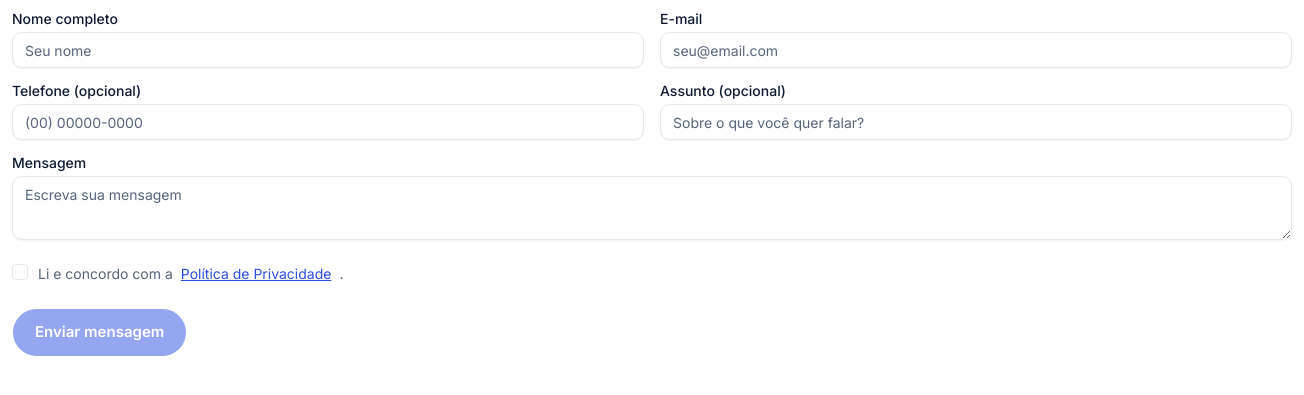
Test case: ContactForm › reports invalid values as the user types
The image size is (1304, 395).
In the field labelled "E-mail": (976, 50) [660, 32, 1292, 68], type "não-é-email"
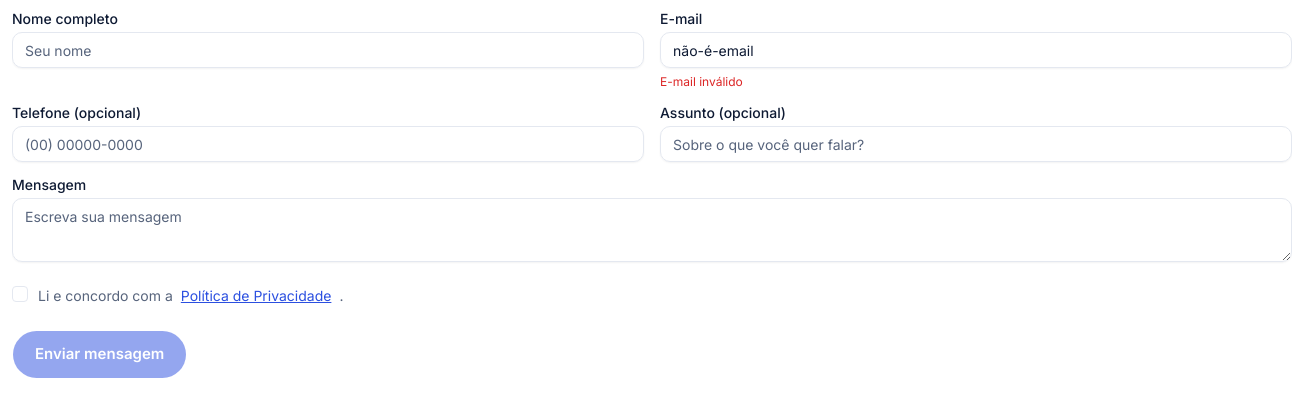
Result: the text "E-mail inválido" is shown at [660, 74, 743, 89]
